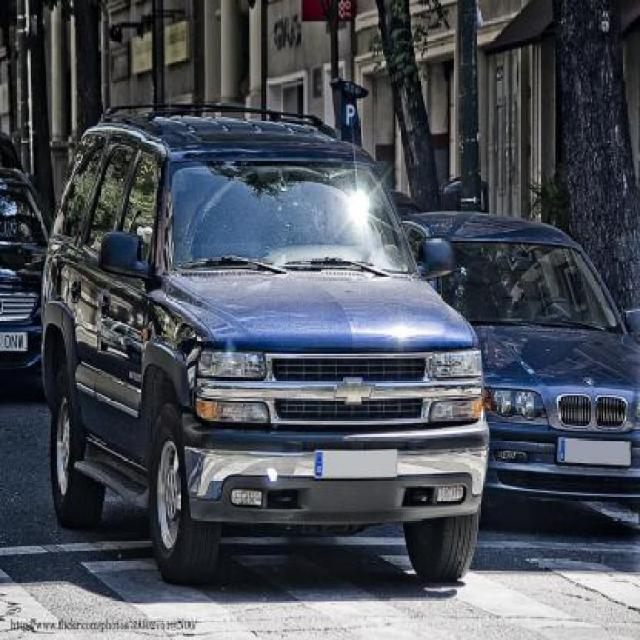License-Plates: (311, 445, 400, 482), (551, 434, 639, 466), (0, 329, 33, 356)
